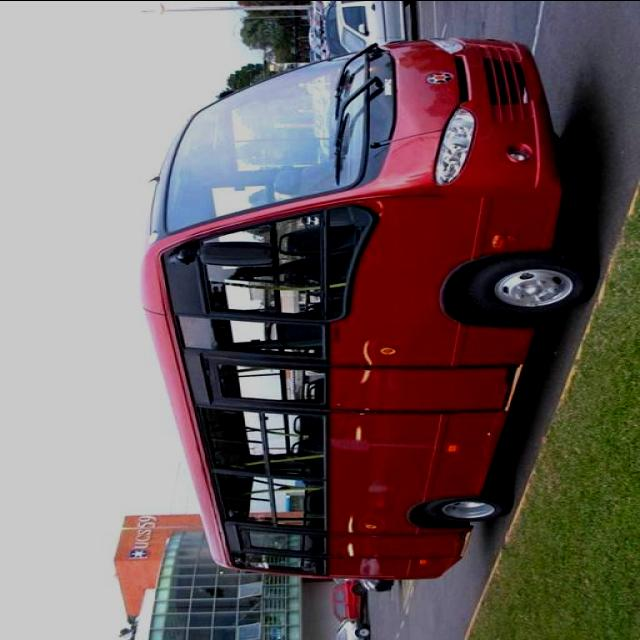bus: (136, 31, 600, 589)
